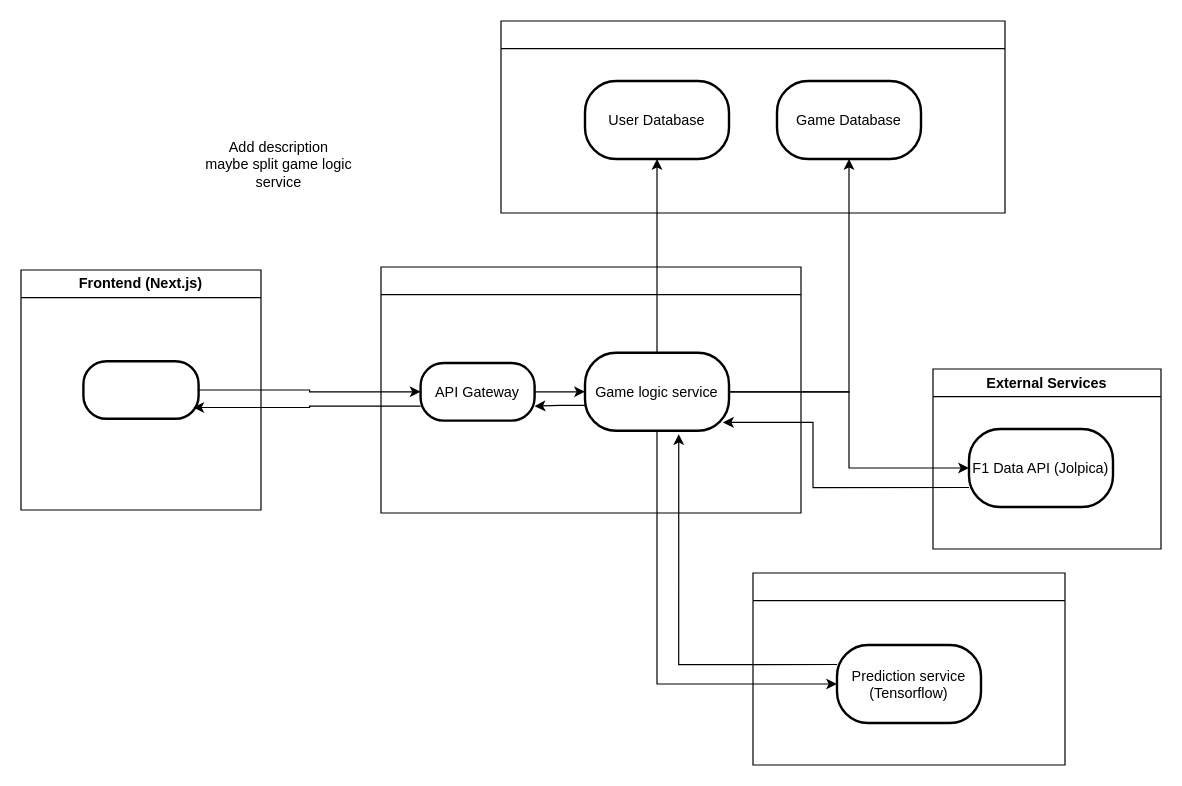
This 1182x786 diagram has some shape labels left out. The box of each missing label's shape, as (x1, y1, x2, y2) in pixels:
Backend (.Net): (380, 266, 801, 513)
Databases (PostgresSQL): (500, 20, 1005, 213)
ML Deployment (Node.js): (752, 572, 1065, 765)
Web Server: (82, 359, 199, 419)
